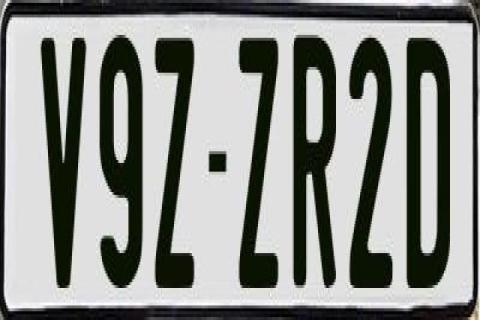0: (348, 29, 398, 297), (98, 29, 142, 299)
D: (406, 38, 452, 302)
R: (289, 35, 338, 305)
V: (40, 32, 92, 296)
Z: (238, 35, 284, 288), (152, 29, 194, 288)
